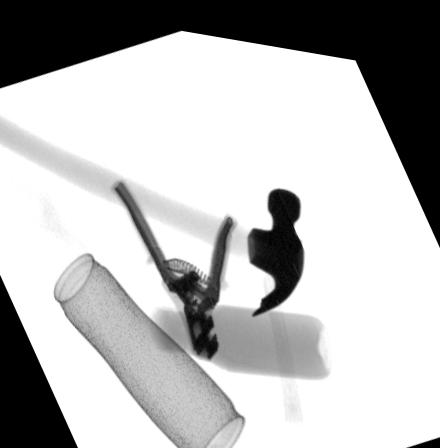Hammer: (0, 112, 304, 307)
Pliers: (109, 175, 238, 356)
